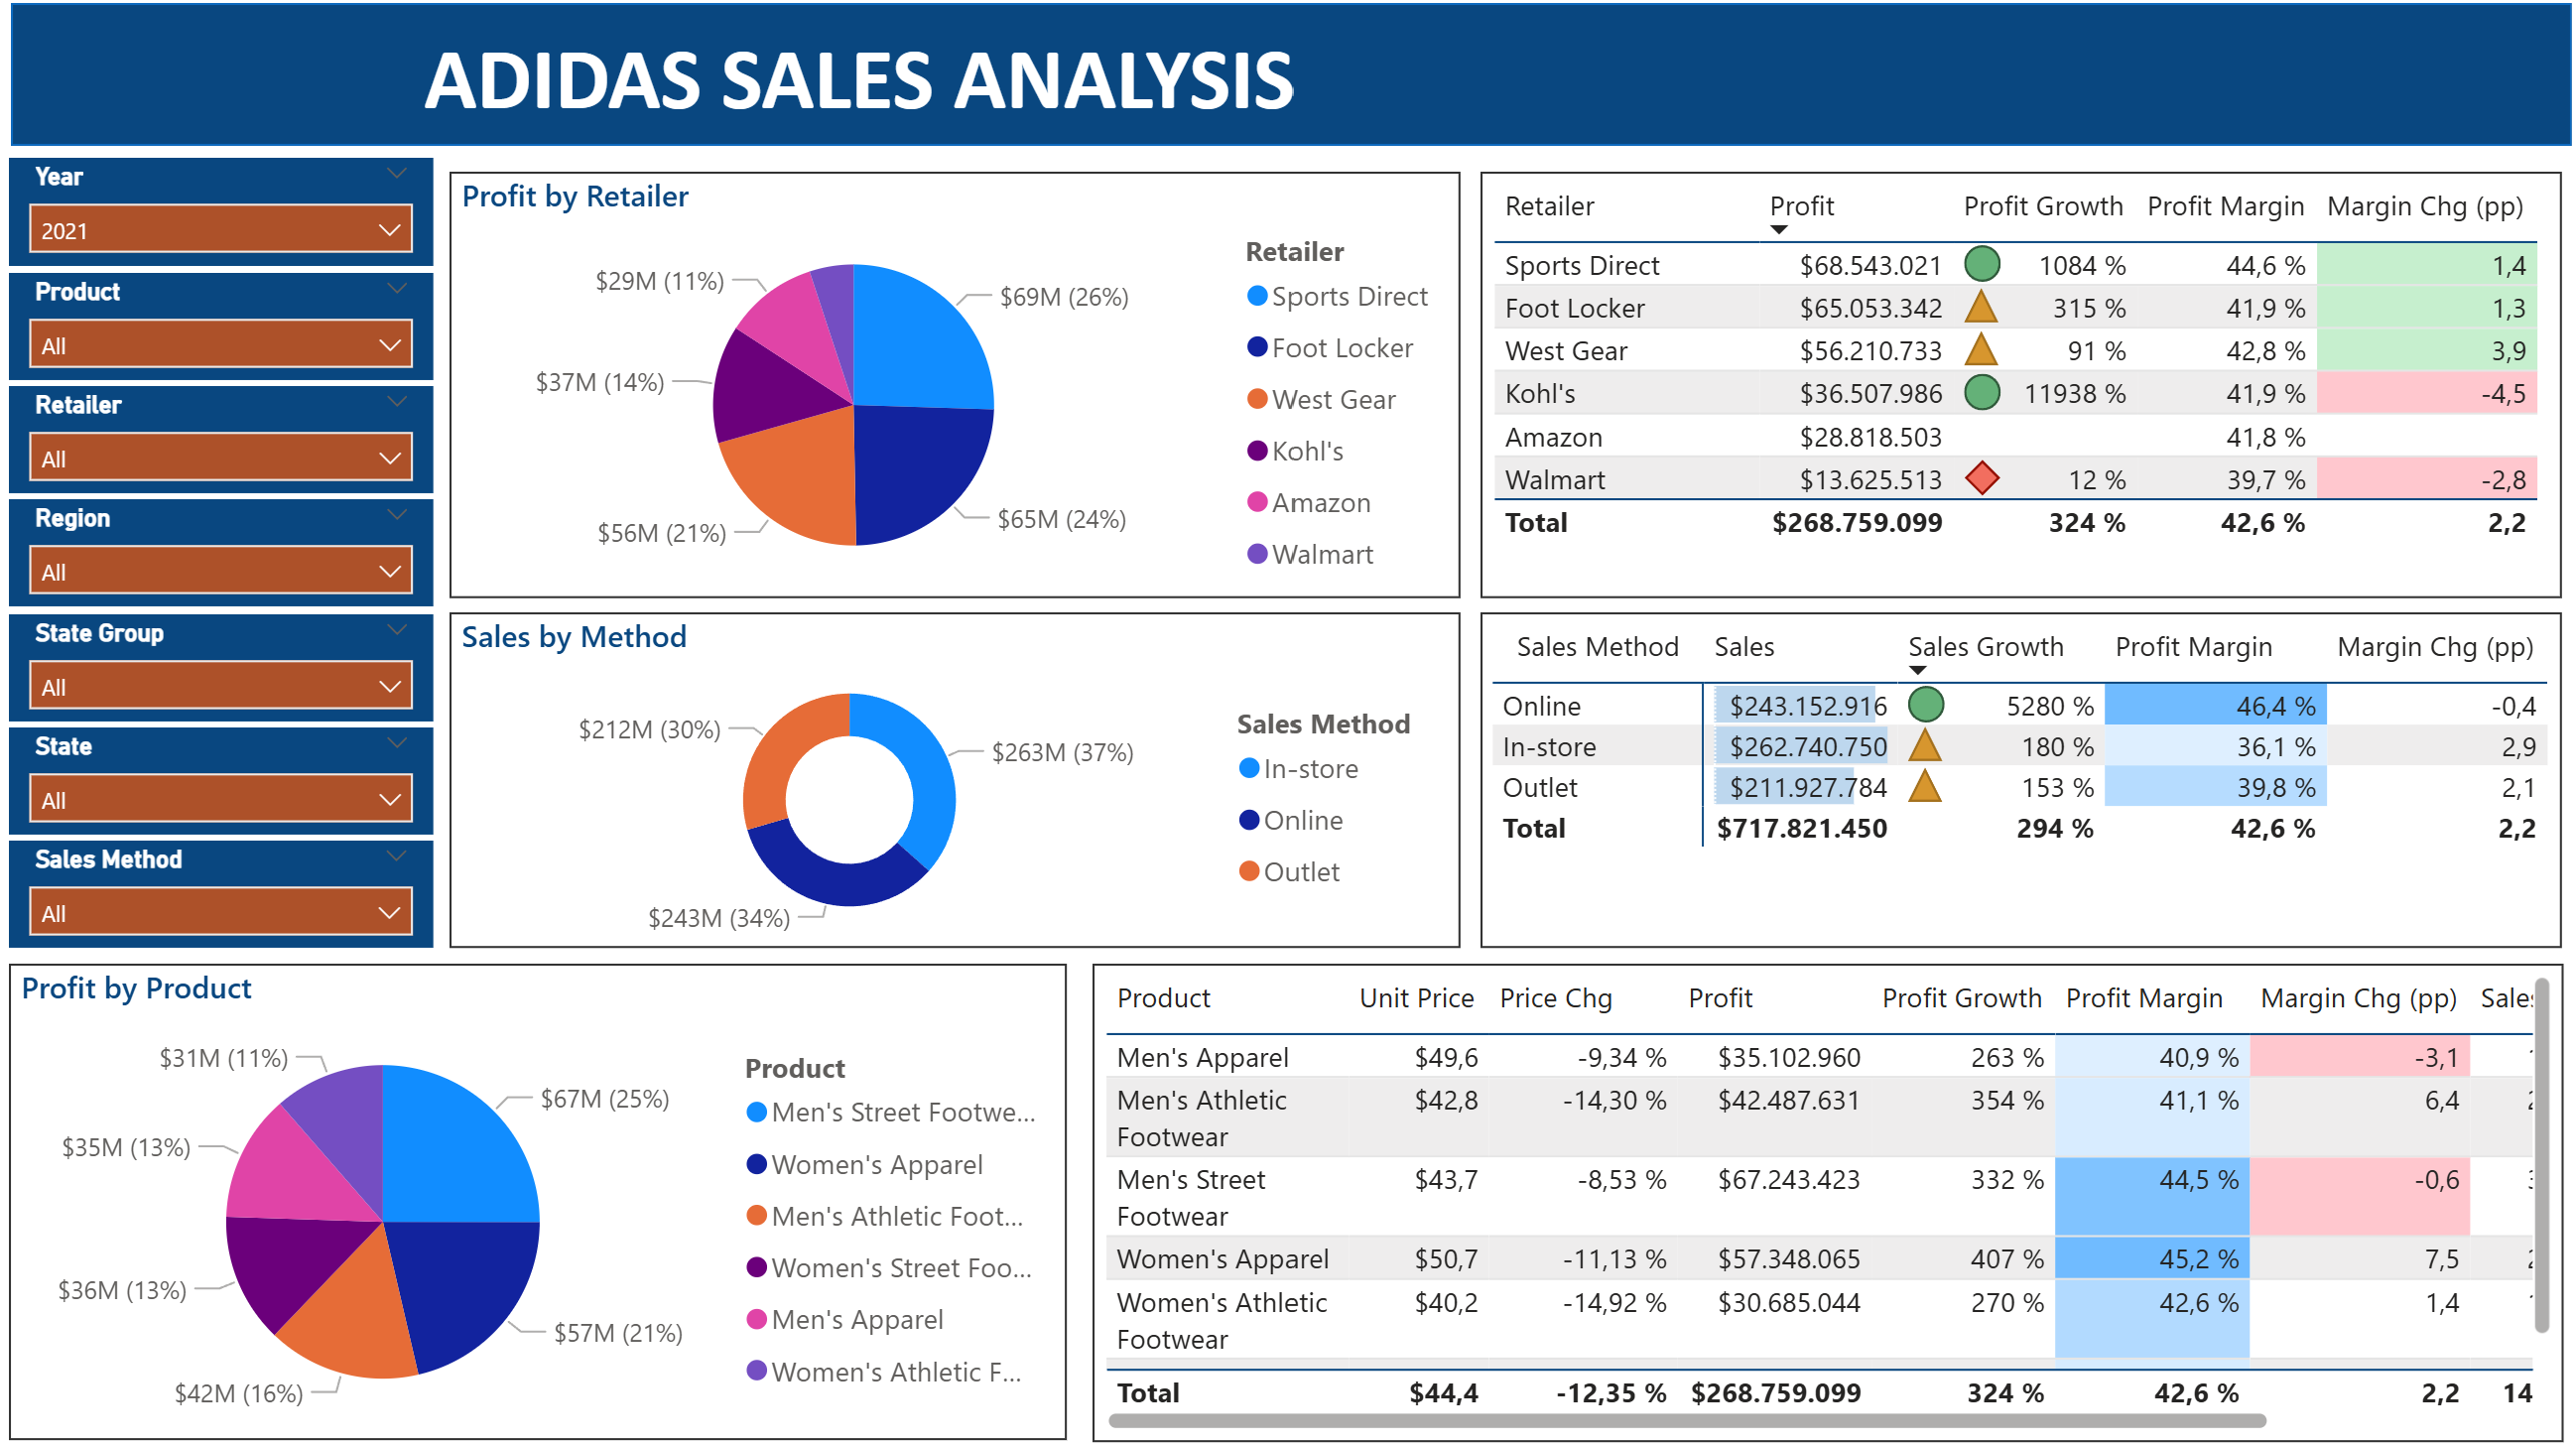

What the dashboard file says about the page in this screenshot:
{"tool":"powerbi","page":{"name":"Retail & Product Breakdown","canvas":[1280,720],"ordinal":1},"visuals":[{"type":"shape","box":[16.5,2.9,1254.7,70],"z":0},{"type":"slicer","fields":{"Values":["Data Sales Adidas.Region"]},"box":[15.6,246.5,208.1,52.5],"z":1000},{"type":"slicer","fields":{"Values":["Data Sales Adidas.Product"]},"box":[15.6,135,208.1,52.5],"z":2000},{"type":"textbox","box":[214,8.8,441.6,64.2],"z":3000},{"type":"slicer","fields":{"Values":["CalendarTable.Year"]},"box":[15.6,78.8,208,53],"z":4000},{"type":"slicer","fields":{"Values":["Data Sales Adidas.State"]},"box":[15.6,358,208.1,52.5],"z":5000},{"type":"slicer","fields":{"Values":["Data Sales Adidas.Retailer"]},"box":[15.6,190.7,208.1,52.5],"z":6000},{"type":"slicer","fields":{"Values":["Data Sales Adidas.Sales Method"]},"box":[15.8,413.7,207.8,52.5],"z":7000},{"type":"tableEx","fields":{"Values":["Data Sales Adidas.Retailer","Sum(Data Sales Adidas.Operating Profit)","_Measures.YoY Profit % _11.9","Avg(Data Sales Adidas.Operating Margin)","_Measures.Profit Margin Change 11_9"]},"box":[736.3,85.6,530.1,209.1],"z":8000},{"type":"pieChart","title":" Profit by Retailer","fields":{"Y":["Sum(Data Sales Adidas.Operating Profit)"],"Category":["Data Sales Adidas.Retailer"]},"box":[231.5,85.6,495.1,209.1],"z":9000},{"type":"pivotTable","fields":{"Rows":["Data Sales Adidas.Sales Method"],"Values":["Sum(Data Sales Adidas.Total Sales)","_Measures.Sales Growth %_10.9","Avg(Data Sales Adidas.Operating Margin)","_Measures.Profit Margin Change 11_9"]},"box":[736.3,301.5,530.1,164.4],"z":10000},{"type":"tableEx","fields":{"Values":["Data Sales Adidas.Product","Avg(Data Sales Adidas.Price per Unit)","_Measures.Price Change % new","Sum(Data Sales Adidas.Operating Profit)","_Measures.YoY Profit % _11.9","Avg(Data Sales Adidas.Operating Margin)","_Measures.Profit Margin Change 11_9","Sum(Data Sales Adidas.Adjusted Units Sold)","_Measures.sold Growth"]},"box":[546.6,473.7,720.7,234.4],"z":11000},{"type":"pieChart","title":"Profit by Product","fields":{"Y":["Sum(Data Sales Adidas.Operating Profit)"],"Category":["Data Sales Adidas.Product"]},"box":[15.8,474.1,518.6,233.6],"z":12000},{"type":"donutChart","title":" Sales by Method","fields":{"Category":["Data Sales Adidas.Sales Method"],"Y":["Sum(Data Sales Adidas.Total Sales)"]},"box":[231.5,301.5,495.1,164.4],"z":13000},{"type":"slicer","fields":{"Values":["Data Sales Adidas.State Group"]},"box":[15.6,302.2,208.1,52.5],"z":14000}]}

Visuals, with their boxes in screenshot pixels (x1, y1, x2, y2), scaled from the page's 1280x720 canvas onto the 2576x1447 screenshot:
shape: (33,6,2558,147)
slicer - Data Sales Adidas.Region: (32,495,451,600)
slicer - Data Sales Adidas.Product: (32,271,451,377)
textbox: (431,18,1320,147)
slicer - CalendarTable.Year: (32,159,450,265)
slicer - Data Sales Adidas.State: (32,720,451,825)
slicer - Data Sales Adidas.Retailer: (32,383,451,488)
slicer - Data Sales Adidas.Sales Method: (32,832,450,937)
tableEx - Data Sales Adidas.Retailer x Sum(Data Sales Adidas.Operating Profit): (1481,172,2548,592)
" Profit by Retailer" pieChart: (466,172,1463,592)
pivotTable - Data Sales Adidas.Sales Method x Sum(Data Sales Adidas.Total Sales): (1481,606,2548,936)
tableEx - Data Sales Adidas.Product x Avg(Data Sales Adidas.Price per Unit): (1100,952,2550,1423)
"Profit by Product" pieChart: (32,953,1076,1422)
" Sales by Method" donutChart: (466,606,1463,936)
slicer - Data Sales Adidas.State Group: (32,607,451,713)
